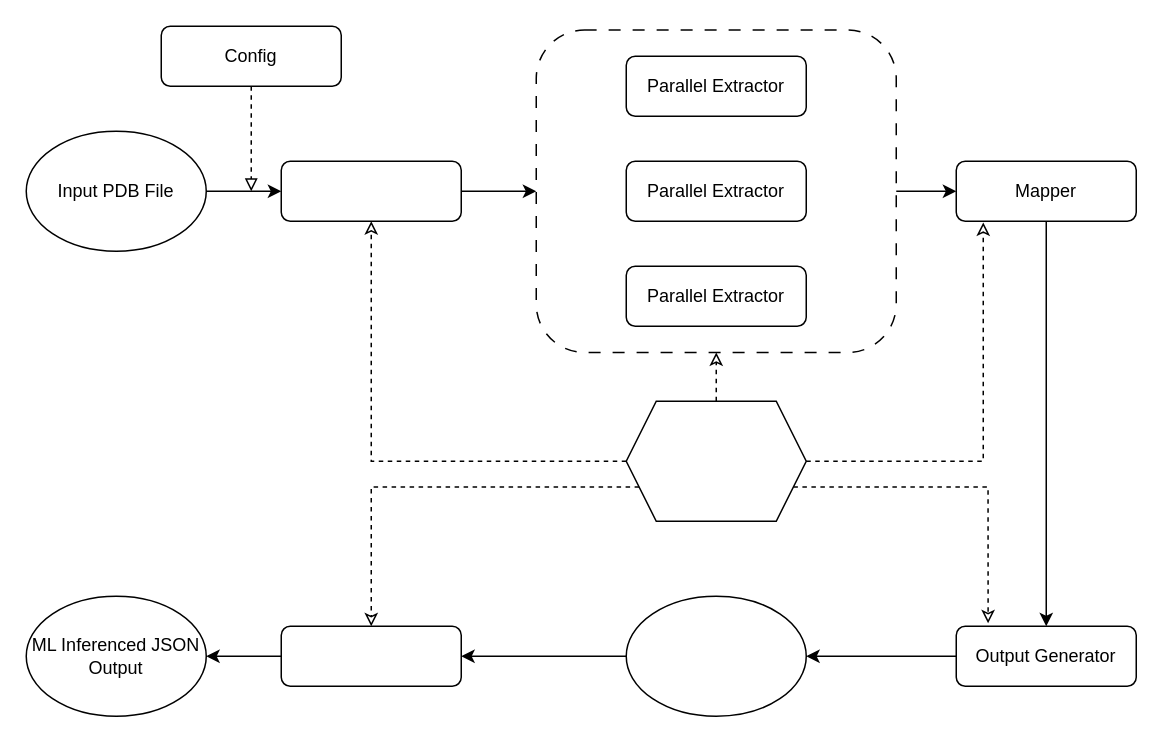
The diagram is 1163 pixels wide and 743 high, and some of its shapes have lost their labels. Each missing label, with the centre of its shape:
Extracted JSON Output: (715,655)
File Splitter: (370,190)
ML Integration: (370,655)
Pipeline Orchestrator: (715,460)
